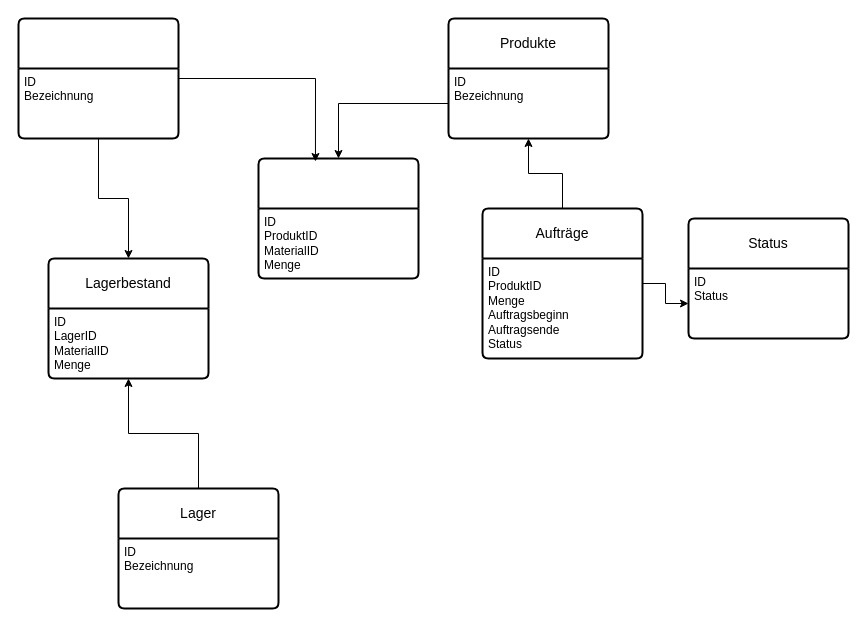
This 866x626 diagram has some shape labels left out. The shapes that lost their labels are listed below. From the top down, each one's box as (x1, y1, x2, y2) in pixels, then its label:
(17, 17, 179, 139): Materialien
(257, 157, 419, 279): Produkt-Material-Verbund
